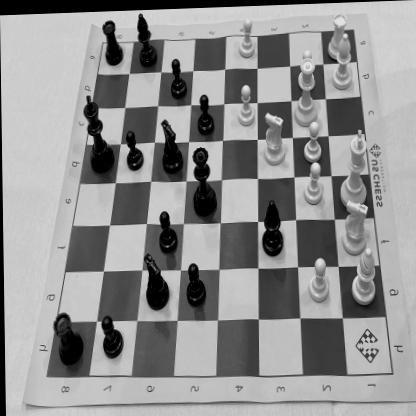black-bishop: (260, 195, 286, 258), (134, 8, 158, 68)
black-king: (82, 90, 116, 174)
black-knight: (140, 246, 170, 312), (160, 112, 184, 174)
black-pawn: (98, 308, 125, 360), (182, 257, 208, 306), (155, 207, 179, 254), (124, 124, 146, 173), (196, 88, 216, 138), (170, 54, 190, 99)
black-queen: (189, 140, 217, 219)
black-rook: (51, 306, 85, 366), (100, 14, 124, 68)
white-bishop: (348, 245, 377, 305), (330, 32, 354, 92)
white-king: (338, 125, 369, 209)
white-knight: (339, 198, 370, 258), (262, 110, 288, 168)
white-pawn: (305, 255, 330, 305), (302, 160, 326, 208), (236, 15, 258, 59), (235, 83, 256, 129), (302, 119, 323, 164), (296, 47, 317, 90)
white-queen: (291, 57, 322, 126)
white-rook: (326, 7, 350, 62)
